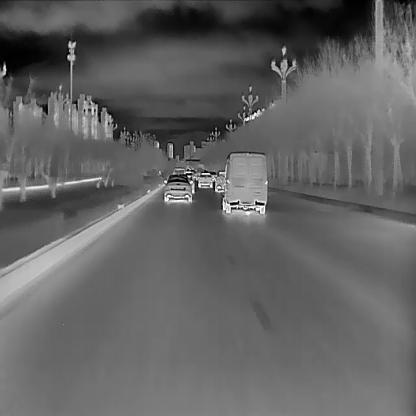car: (221, 150, 267, 214), (163, 173, 191, 202), (214, 170, 226, 192), (197, 172, 213, 187)
